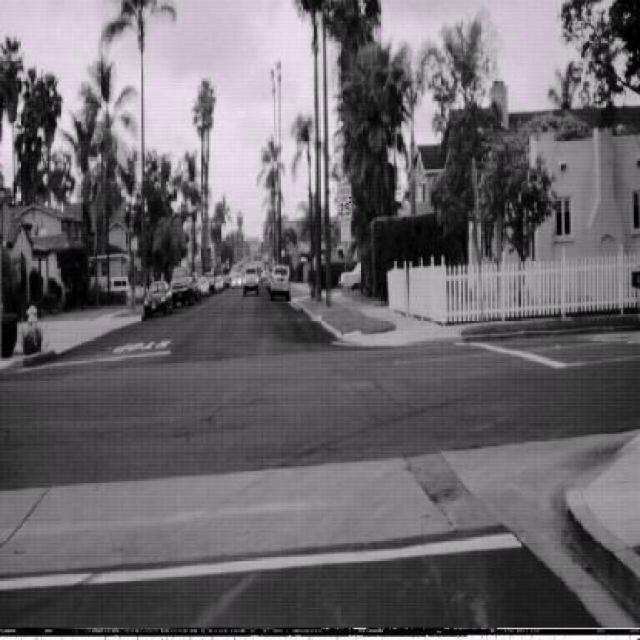speedLimit25: (336, 182, 352, 220)
